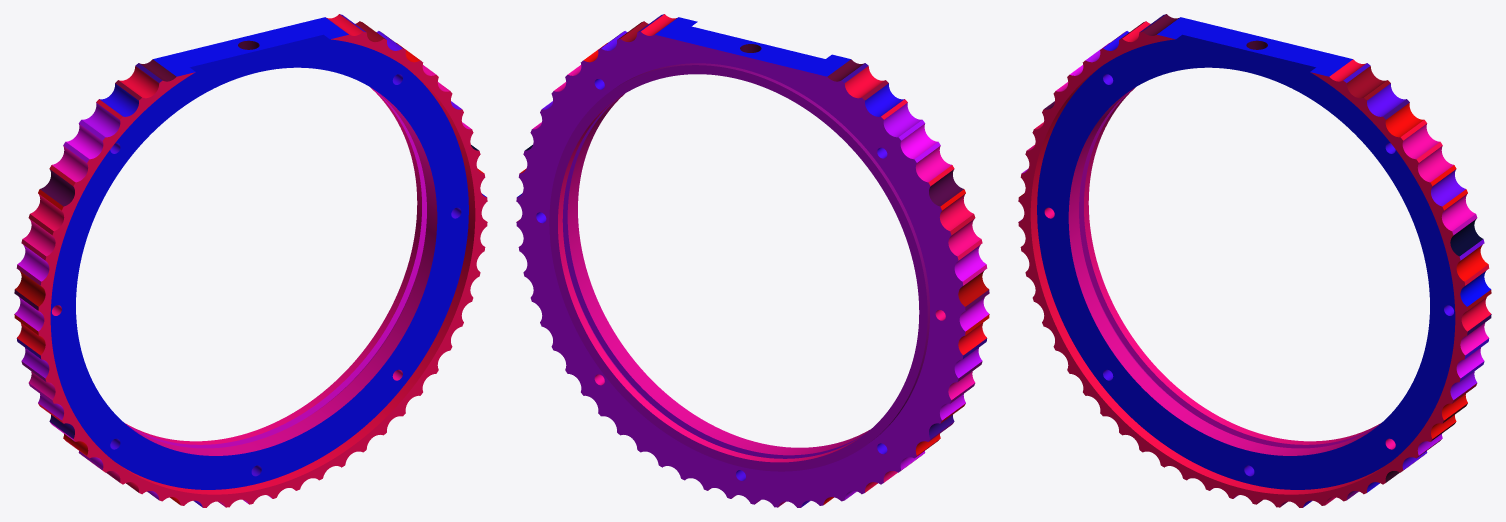
The model's file is carrure.glb.
3 views of the same model, side by side, from view 1: azimuth 30°, elevation 25°; view 2: azimuth 150°, elevation 25°; view 3: azimuth 330°, elevation 25° (orthographic).
Parts seen in each view (by area): view 1: Objet_3D-1; view 2: Objet_3D-1; view 3: Objet_3D-1.
Part boxes in pixels (bbox=[...]): Objet_3D-1: bbox=[14, 14, 487, 507]; Objet_3D-1: bbox=[516, 14, 989, 507]; Objet_3D-1: bbox=[1018, 14, 1491, 507].
Size of the model in its own units: 5295 by 5023 by 540.
